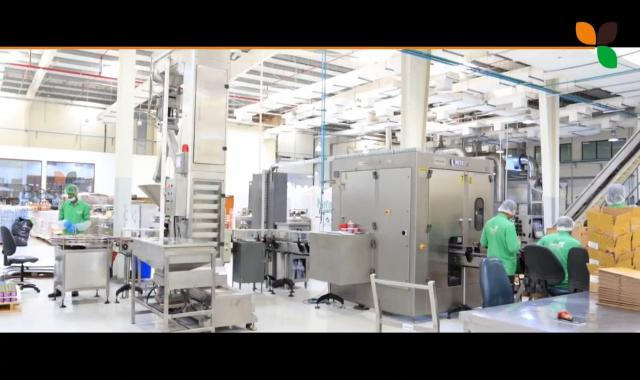hairnet: (605, 182, 626, 204), (499, 198, 516, 217), (556, 213, 573, 232), (64, 183, 80, 202)
